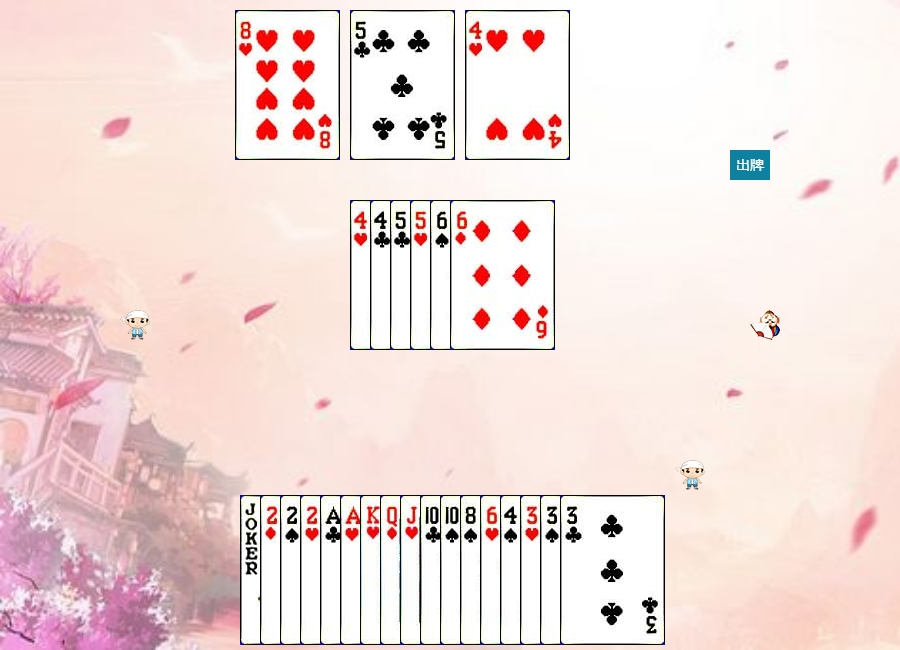10~2: (420, 495, 525, 645)
10~4: (440, 495, 545, 645)
11~3: (400, 495, 505, 645)
12~1: (380, 495, 485, 645)
13~3: (360, 495, 465, 645)
14~2: (320, 495, 425, 645)
14~3: (340, 495, 445, 645)
15~1: (260, 495, 365, 645)
15~3: (300, 495, 405, 645)
15~4: (280, 495, 385, 645)
17~3: (240, 495, 345, 645)
3~2: (560, 495, 665, 645)
3~3: (520, 495, 625, 645)
3~4: (540, 495, 645, 645)
4~2: (370, 200, 475, 350)
4~3: (465, 10, 570, 160), (350, 200, 455, 350)
4~4: (500, 495, 605, 645)
5~2: (350, 10, 455, 160), (390, 200, 495, 350)
5~3: (410, 200, 515, 350)
6~1: (450, 200, 555, 350)
6~3: (480, 495, 585, 645)
6~4: (430, 200, 535, 350)
8~3: (235, 10, 340, 160)
8~4: (460, 495, 565, 645)
